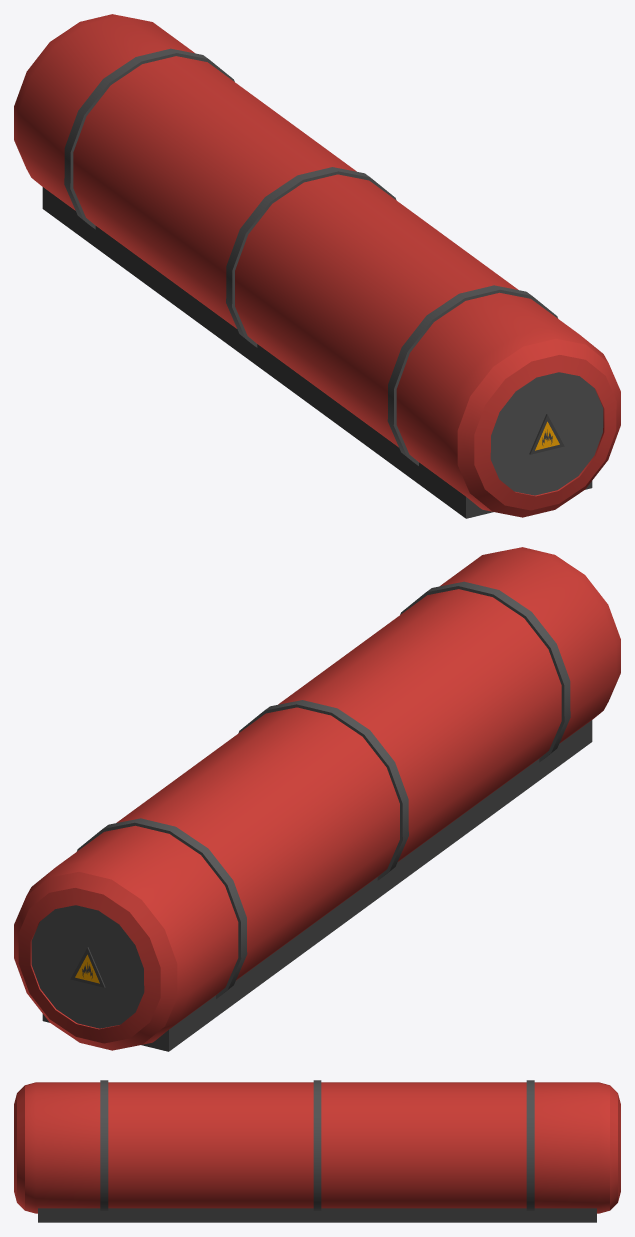
Rendered from SM_Vehicles_TrainPart_02.fbx.
3 views of the same model, one above another, from view 1: azimuth 30°, elevation 25°; view 2: azimuth 150°, elevation 25°; view 3: azimuth 270°, elevation 25° (orthographic). The views are drawn at different scales.
Parts seen in each view (by area): view 1: SM_Vehicles_TrainPart_02; view 2: SM_Vehicles_TrainPart_02; view 3: SM_Vehicles_TrainPart_02.
Boxes of the visible parts, <box> form: SM_Vehicles_TrainPart_02: <box>14,14,620,518</box>; SM_Vehicles_TrainPart_02: <box>14,547,620,1051</box>; SM_Vehicles_TrainPart_02: <box>14,1080,620,1222</box>.
Bounding box in the file's own units: 3.62 × 3.62 × 16.31.
